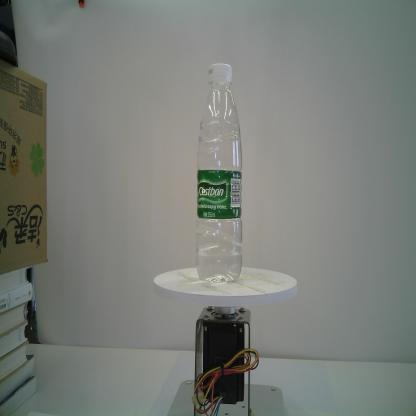Drink: (194, 60, 243, 284)
